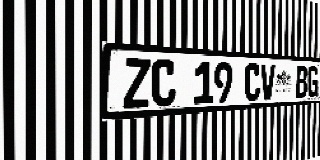1: (193, 61, 214, 104)
9: (214, 62, 233, 103)
B: (296, 66, 308, 98)
C: (151, 59, 176, 107), (244, 63, 260, 101)
G: (307, 66, 319, 97)
V: (260, 64, 275, 100)
Z: (123, 58, 151, 109)
